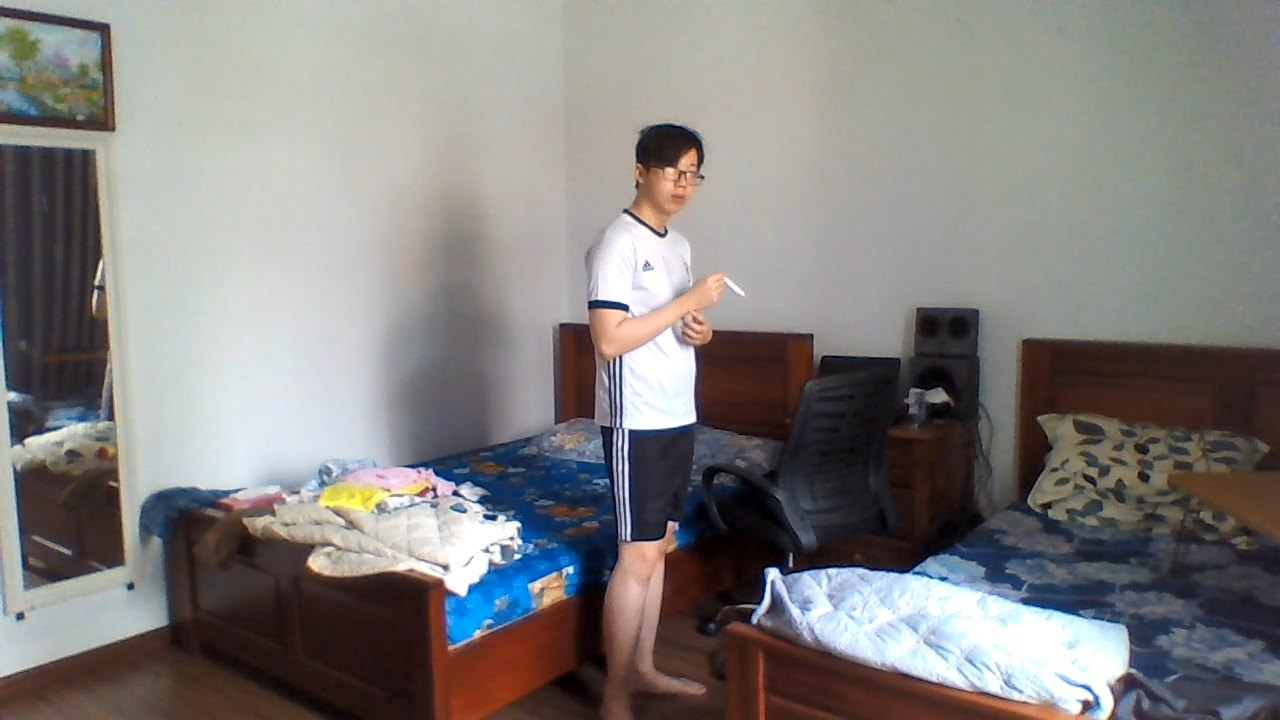person: (567, 110, 739, 720), (724, 276, 747, 300)
